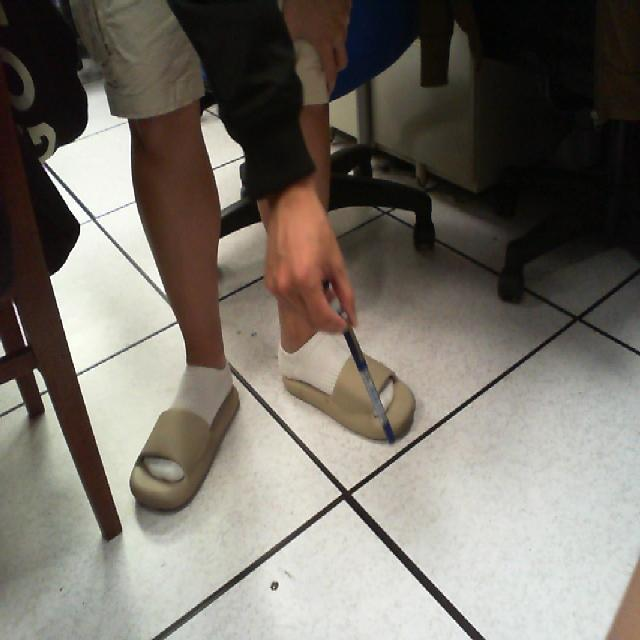Pen: (318, 270, 415, 461)
